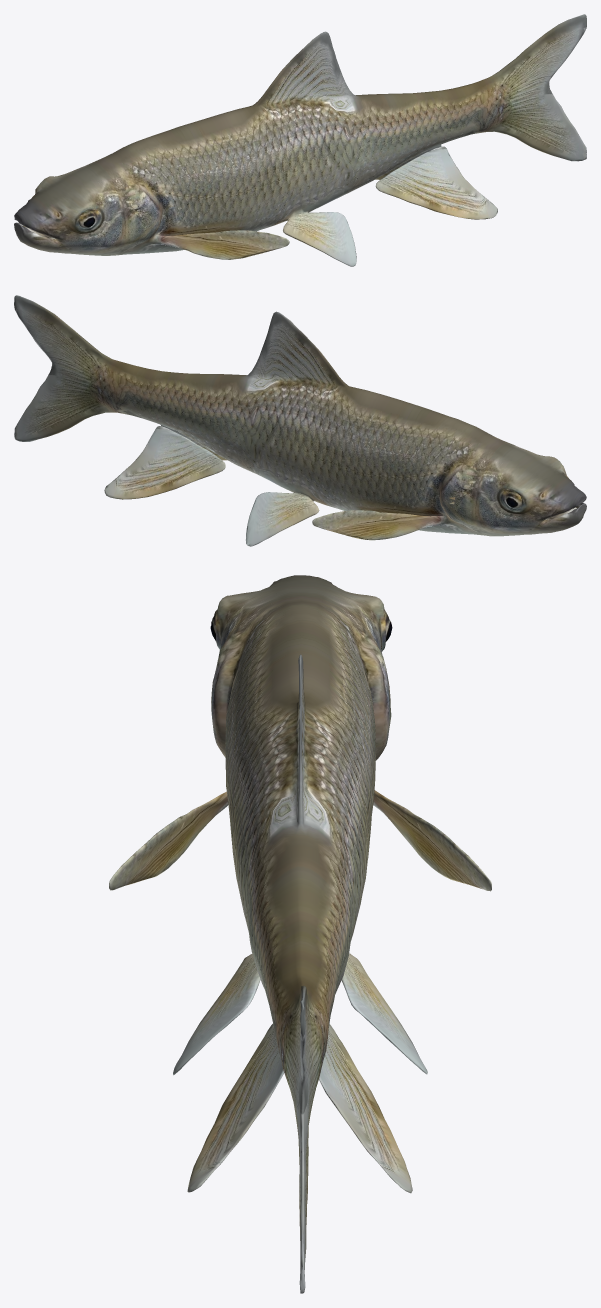
Rendered from meshy_zacco_textured_by_projection.glb.
The picture shows the model from 3 angles, top to bottom: view 1: azimuth 30°, elevation 25°; view 2: azimuth 150°, elevation 25°; view 3: azimuth 270°, elevation 25°; orthographic projection. The views are drawn at different scales.
Parts seen in each view (by area): view 1: zacco_tex; view 2: zacco_tex; view 3: zacco_tex.
Boxes of the visible parts, left/top/right/bottom form: zacco_tex: left=14, top=14, right=586, bottom=266; zacco_tex: left=14, top=295, right=586, bottom=546; zacco_tex: left=109, top=575, right=491, bottom=1293.
Size of the model in its own units: 1 by 0.3546 by 0.2925.
1 material, 1 textured.
